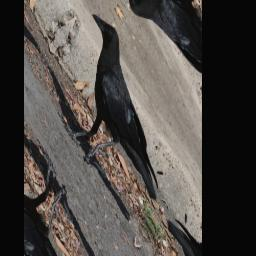Crow: (40, 1, 189, 237)
